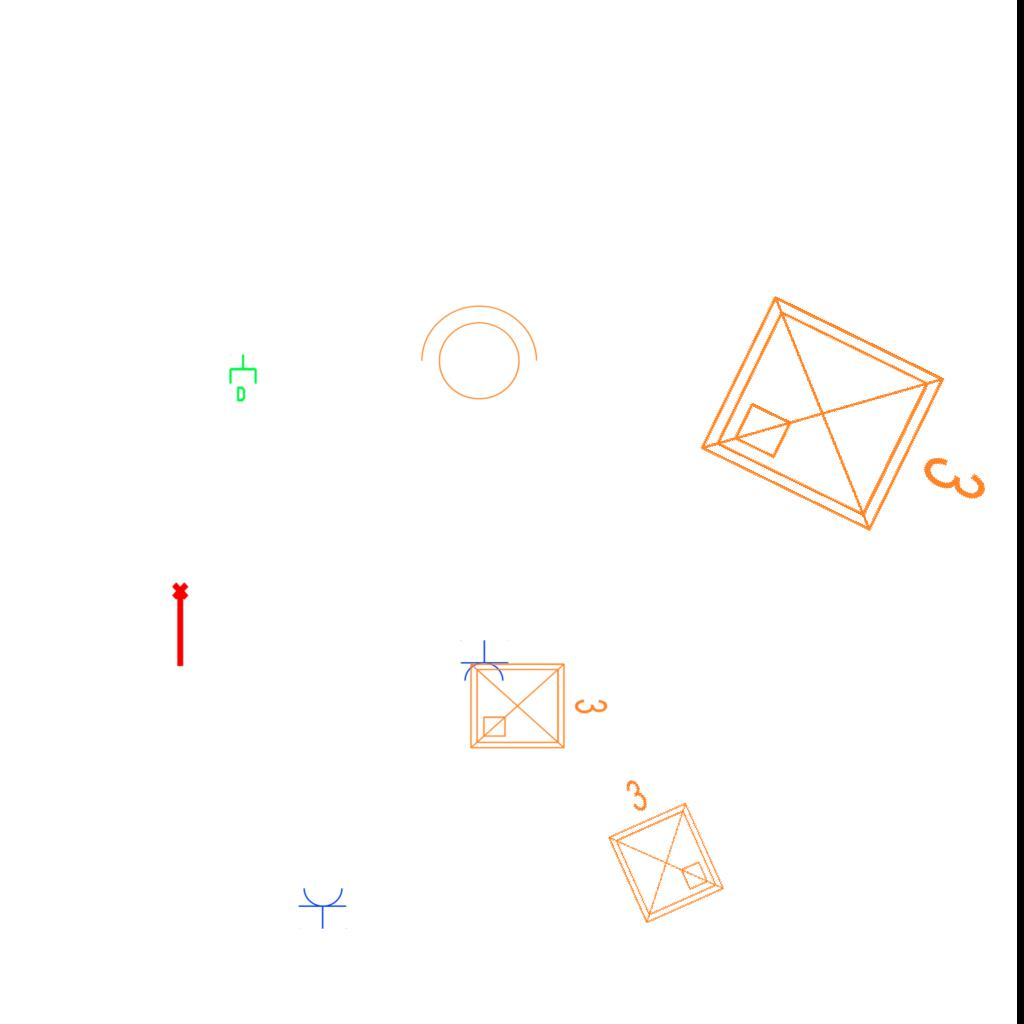ASR_Ansaugoeffnung: (170, 581, 193, 669)
Datenanschluss_einfach: (227, 353, 261, 403)
Einbaudownlights_LED_Konferenzraeume: (680, 268, 1024, 588), (577, 755, 735, 935), (463, 652, 613, 756)
Scheinwerfer_fuer_Alarmbeleuchtung: (410, 300, 542, 412)
Schukosteckdose_einfach: (459, 640, 509, 683), (298, 886, 348, 929)
